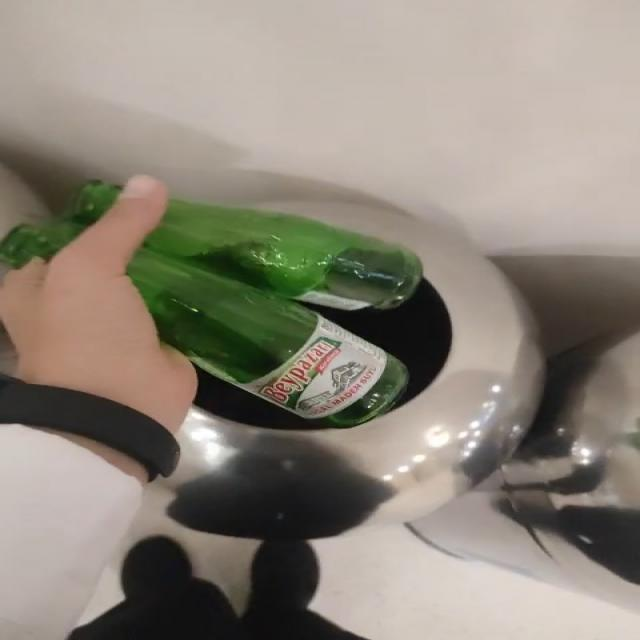glass: (127, 200, 421, 428), (1, 181, 119, 266)
